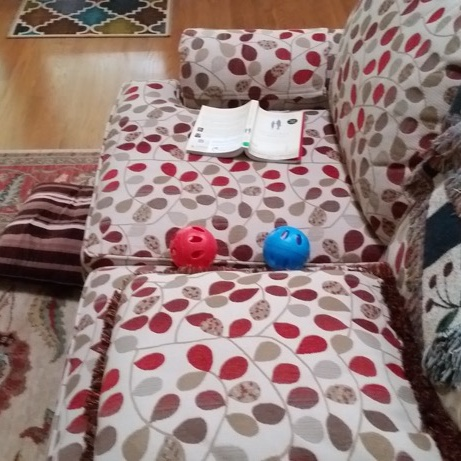blueball: (258, 223, 312, 272)
redball: (164, 220, 222, 277)
